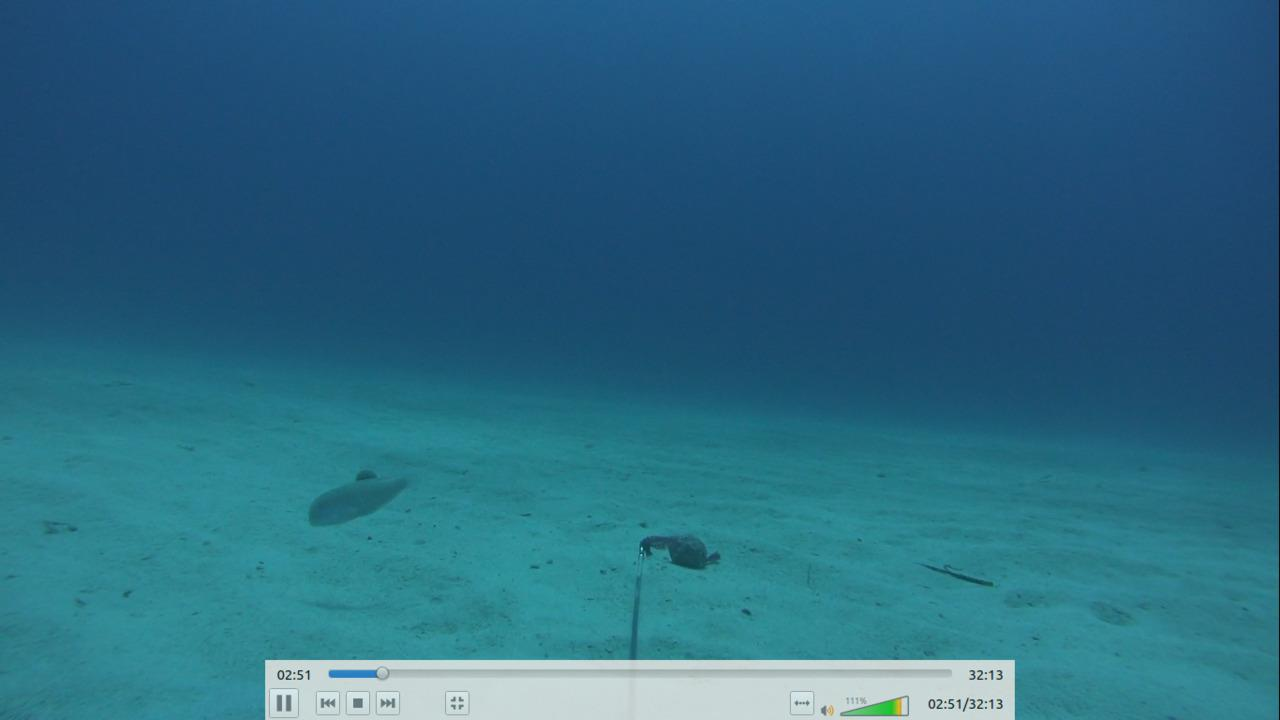raor: (304, 472, 415, 530)
